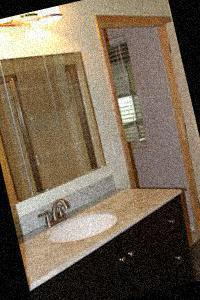Lavamanos: (26, 182, 126, 259)
